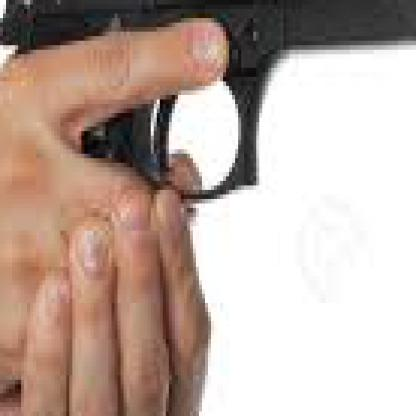gun: (0, 0, 413, 240)
